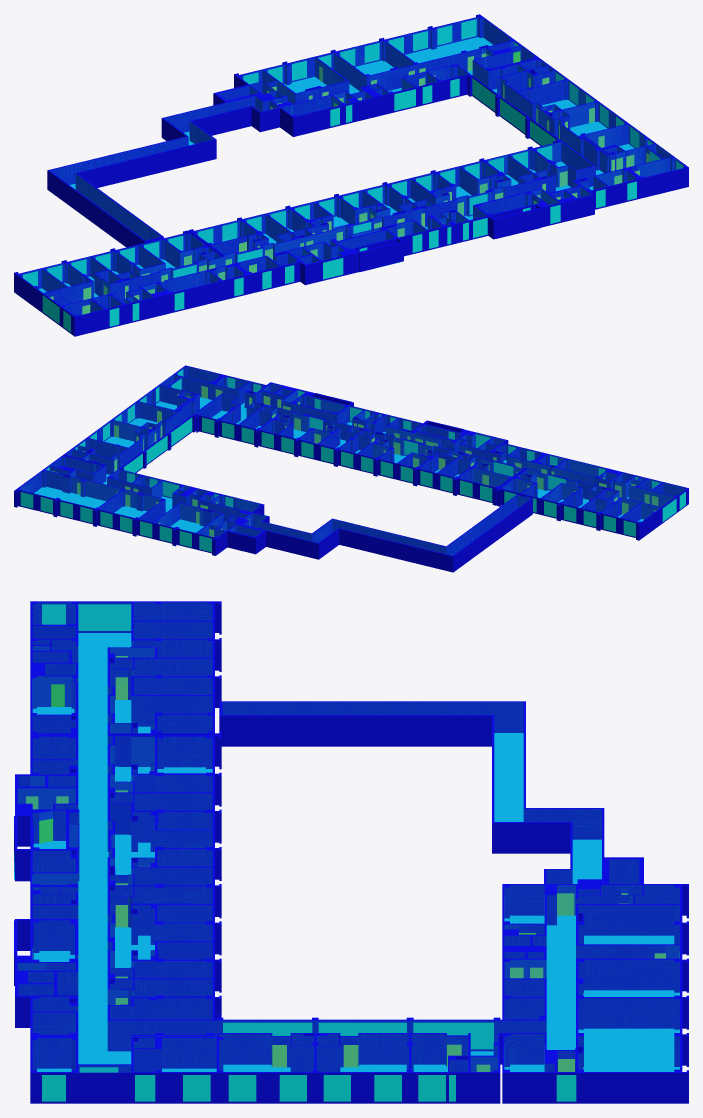
Rendered from floor_2.gltf.
The picture shows the model from 3 angles, top to bottom: view 1: azimuth 30°, elevation 25°; view 2: azimuth 150°, elevation 25°; view 3: azimuth 270°, elevation 25°; orthographic projection. The views are drawn at different scales.
Parts seen in each view (by area): view 1: group_solid_mesh, Room_2_33869_-18446, group_windows_mesh, Room_2_6553_-39344, group_ground_mesh, group_door_mesh, Room_2_62447_-52820, Room_2_40953_-11029, Room_2_23482_-10734, Room_2_-9416_-10979, Room_2_39343_-52846, Room_2_50582_-52832 (+16 smaller); view 2: group_solid_mesh, group_windows_mesh, Room_2_33869_-18446, Room_2_6553_-39344, group_ground_mesh, group_door_mesh, Room_2_62447_-52820, Room_2_40953_-11029, Room_2_23482_-10734, Room_2_-9416_-10979, Room_2_39343_-52846, Room_2_50582_-52832 (+16 smaller); view 3: group_solid_mesh, Room_2_33869_-18446, group_ground_mesh, group_windows_mesh, Room_2_6553_-39344, Room_2_62447_-52820, Room_2_40953_-11029, Room_2_23482_-10734, Room_2_-9416_-10979, Room_2_39343_-52846, group_door_mesh, Room_2_50582_-52832 (+29 smaller).
Part boxes in pixels (<box>): group_solid_mesh: <box>14,14,688,336</box>; Room_2_33869_-18446: <box>44,48,661,304</box>; group_windows_mesh: <box>23,19,683,332</box>; Room_2_6553_-39344: <box>50,96,277,239</box>; group_ground_mesh: <box>39,37,634,297</box>; group_door_mesh: <box>50,51,649,314</box>; Room_2_62447_-52820: <box>387,18,510,62</box>; Room_2_40953_-11029: <box>390,155,530,204</box>; Room_2_23482_-10734: <box>307,185,410,233</box>; Room_2_-9416_-10979: <box>93,240,212,276</box>; Room_2_39343_-52846: <box>265,57,346,92</box>; Room_2_50582_-52832: <box>338,41,413,74</box>; group_solid_mesh: <box>14,365,688,572</box>; group_windows_mesh: <box>20,369,685,552</box>; Room_2_33869_-18446: <box>69,377,674,526</box>; Room_2_6553_-39344: <box>244,495,530,555</box>; group_ground_mesh: <box>34,397,643,532</box>; group_door_mesh: <box>51,385,658,537</box>; Room_2_62447_-52820: <box>20,471,120,507</box>; Room_2_40953_-11029: <box>240,408,356,447</box>; Room_2_23482_-10734: <box>341,433,450,462</box>; Room_2_-9416_-10979: <box>517,473,599,507</box>; Room_2_39343_-52846: <box>154,503,220,532</box>; Room_2_50582_-52832: <box>100,490,161,517</box>; group_solid_mesh: <box>14,601,688,1103</box>; Room_2_33869_-18446: <box>33,603,679,1063</box>; group_ground_mesh: <box>14,633,679,1071</box>; group_windows_mesh: <box>32,604,679,1101</box>; Room_2_6553_-39344: <box>222,702,601,883</box>; Room_2_62447_-52820: <box>578,998,679,1071</box>; Room_2_40953_-11029: <box>110,886,212,977</box>; Room_2_23482_-10734: <box>110,804,212,884</box>; Room_2_-9416_-10979: <box>110,659,212,732</box>; Room_2_39343_-52846: <box>578,905,679,943</box>; group_door_mesh: <box>26,656,665,1071</box>; Room_2_50582_-52832: <box>578,960,679,996</box>.
Size of the model in its own units: 98899 by 3000 by 59799.
